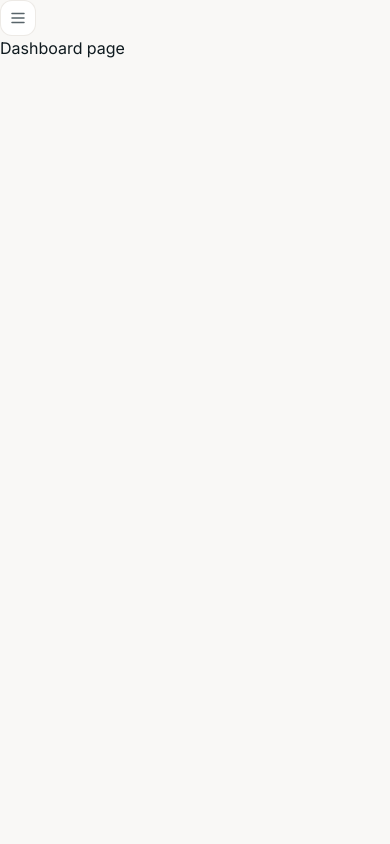
Test: MobileMenu › expose tous les liens du sidebar
Click the button named "ouvrir le menu" at (18, 18), box top-left (0, 0), bottom-right (36, 36)
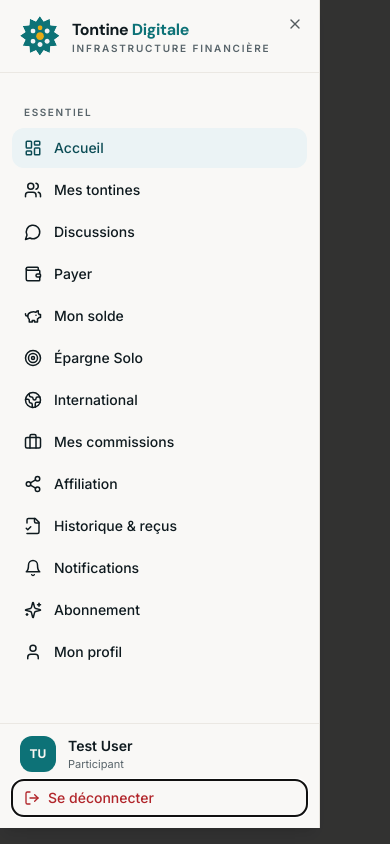
Expected: the link "Accueil" is shown, top-left (12, 128), bottom-right (307, 168)
Expected: the link "Mes tontines" is shown, top-left (24, 181), bottom-right (140, 199)
Expected: the link "Discussions" is shown, top-left (24, 223), bottom-right (135, 241)
